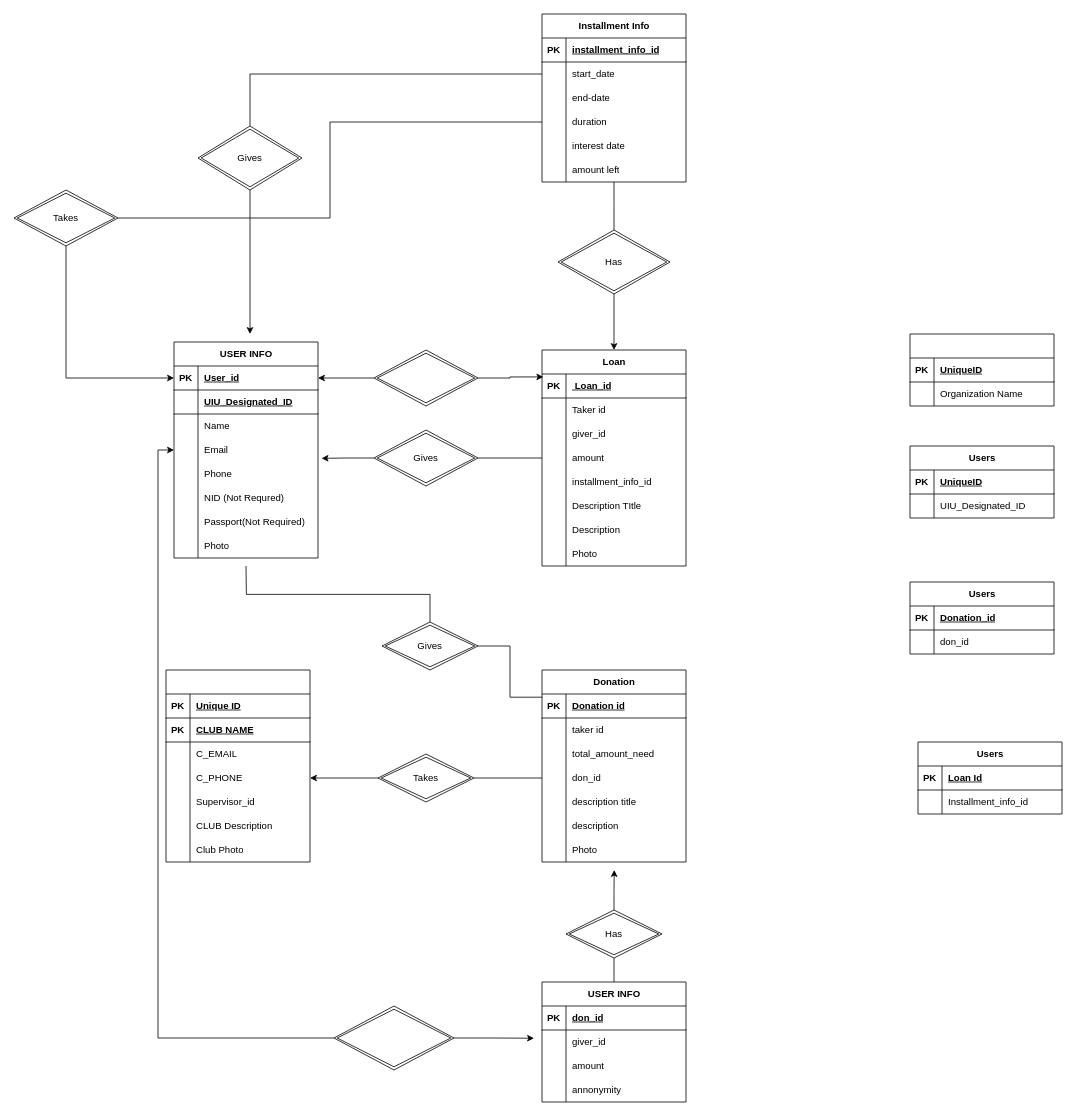
The diagram is 1076 pixels wide and 1116 high, and some of its shapes have lost their labels. The shapes that lost their labels are listed below. From the top down, each one's box as (x1, y1, x2, y2) in pixels, then its label:
(373, 349, 478, 406): Tales
(909, 333, 1054, 406): Organizations
(165, 669, 310, 862): CLUB INFO
(333, 1005, 454, 1070): More Donation Info
